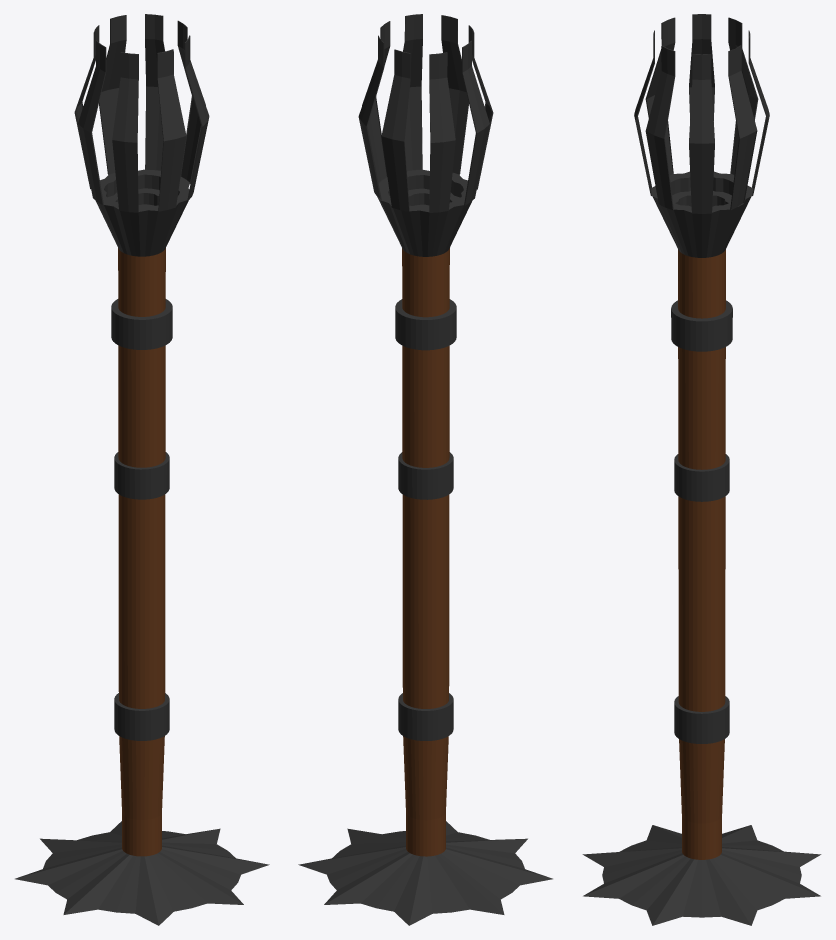
File: StandingTorch.fbx
3 views of the same model, side by side, from view 1: azimuth 30°, elevation 25°; view 2: azimuth 150°, elevation 25°; view 3: azimuth 270°, elevation 25° (orthographic).
Visible parts, largest first — view 1: Cylinder; view 2: Cylinder; view 3: Cylinder.
Boxes of the visible parts, x1=… form: Cylinder: x1=15, y1=14, x2=269, y2=925; Cylinder: x1=298, y1=14, x2=552, y2=925; Cylinder: x1=582, y1=14, x2=821, y2=925.
Bounding box in the file's own units: 152 × 589 × 152.
